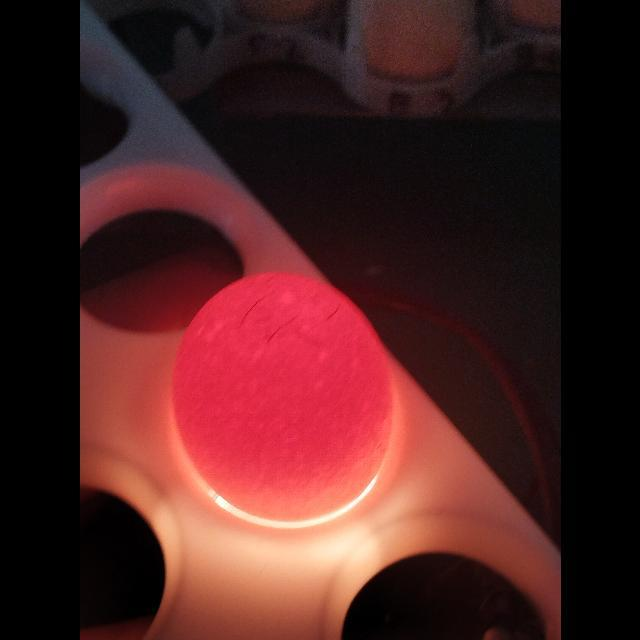Infertile: (168, 261, 386, 514)
